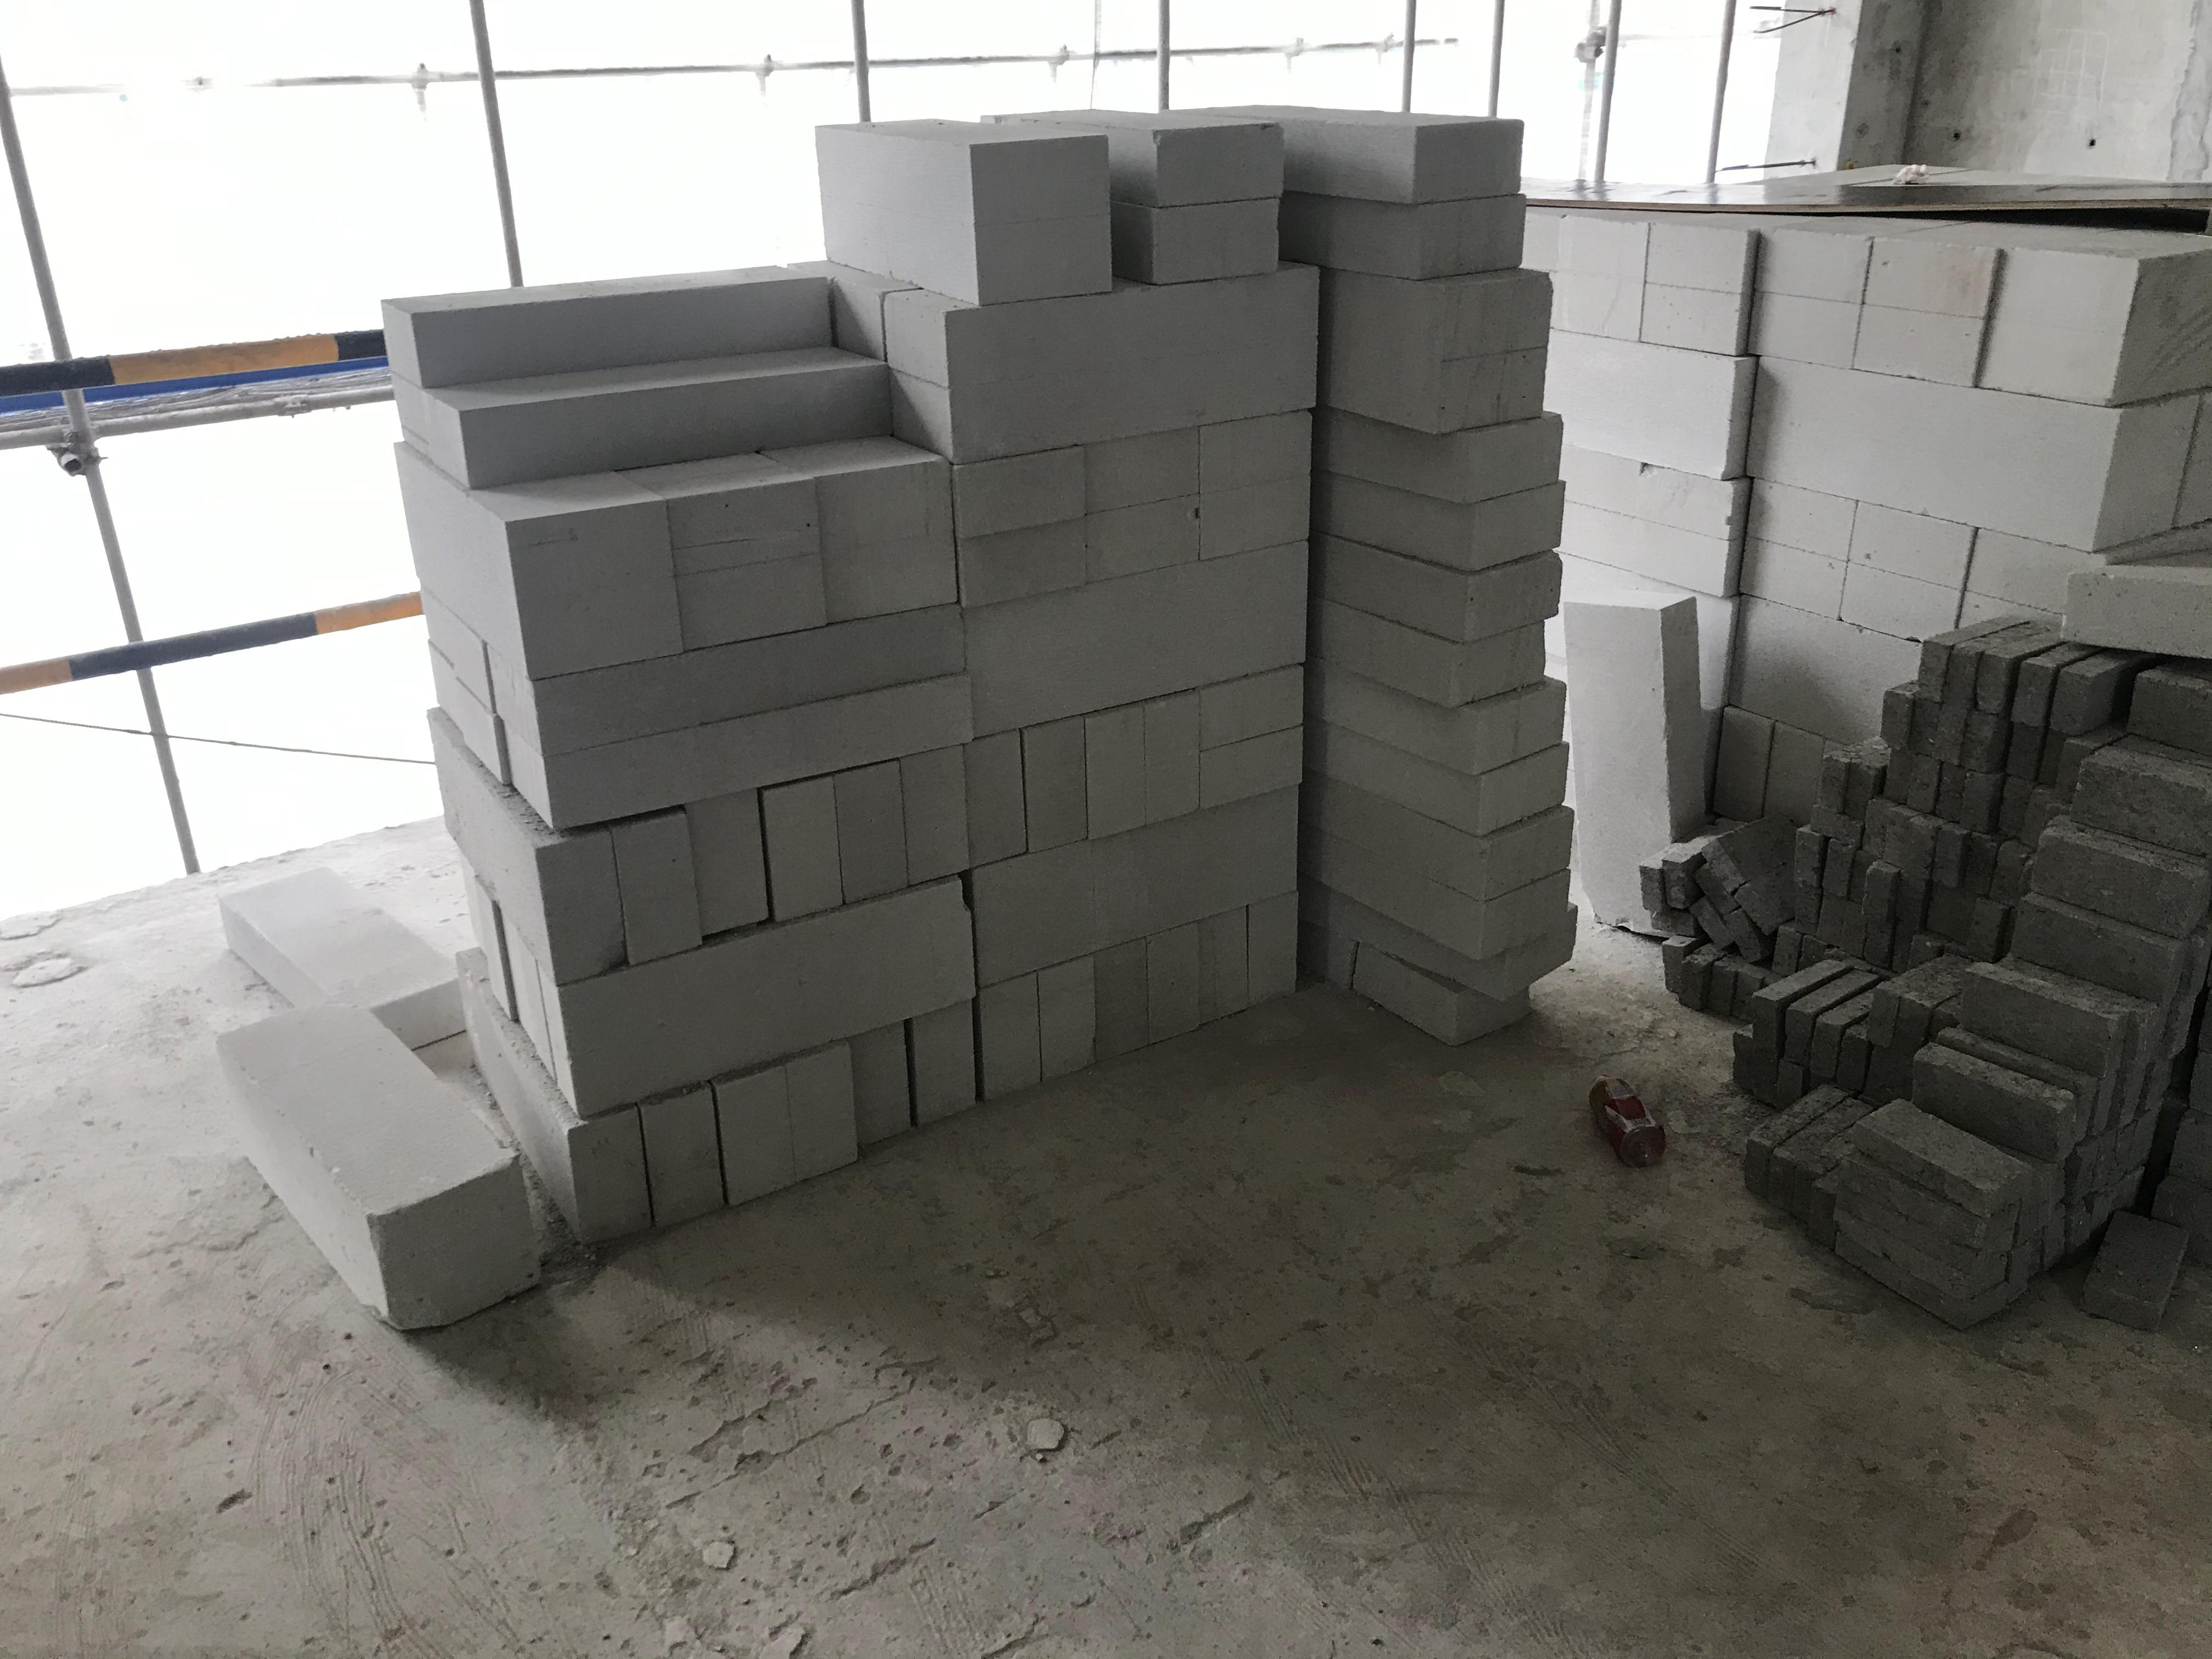brick: (204, 94, 1583, 1338), (1514, 176, 2212, 918), (1634, 608, 2212, 1326)
